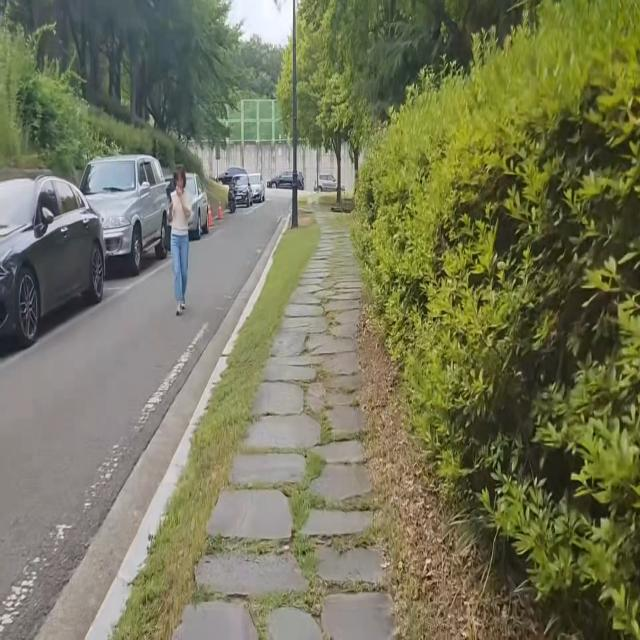obstacle: (75, 144, 177, 296), (165, 159, 195, 316), (224, 166, 269, 221), (290, 0, 299, 227)
road: (0, 200, 291, 640)
sidewalk: (81, 201, 412, 640)
